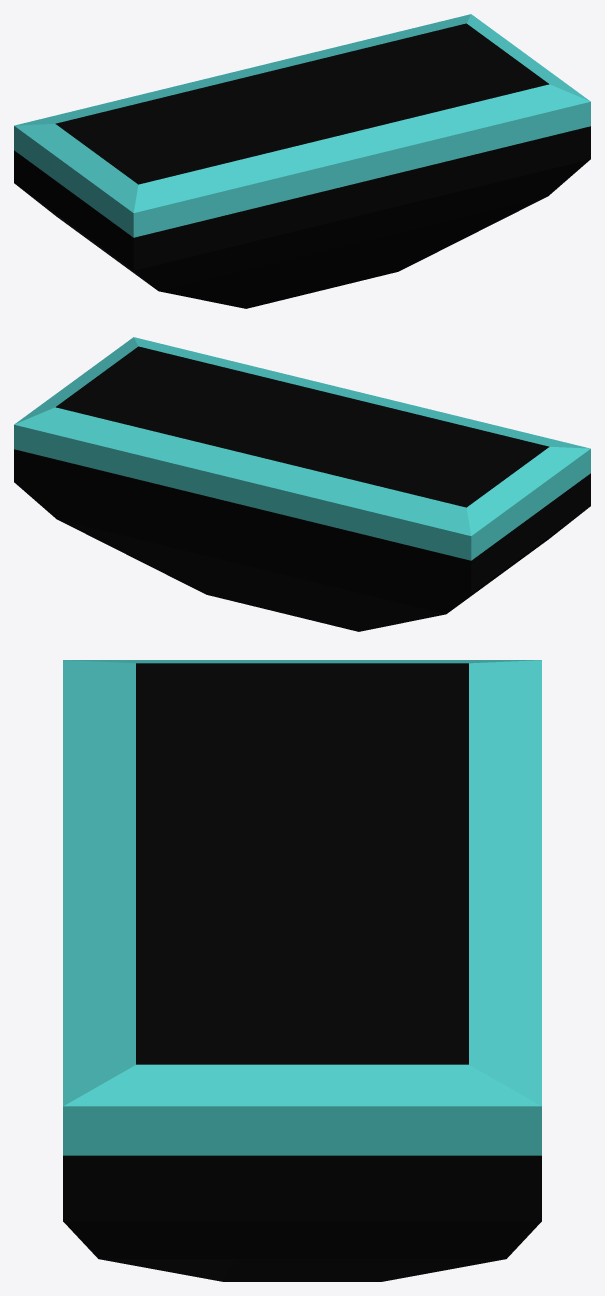
Rendered from rectangleplatform.fbx.
The picture shows the model from 3 angles, top to bottom: view 1: azimuth 30°, elevation 25°; view 2: azimuth 150°, elevation 25°; view 3: azimuth 270°, elevation 25°; orthographic projection. The views are drawn at different scales.
Visible parts, largest first — view 1: rectangle; view 2: rectangle; view 3: rectangle.
Part boxes in pixels (x1,y1,x2,y2): rectangle: (14, 14, 590, 308); rectangle: (14, 337, 590, 631); rectangle: (63, 660, 541, 1281).
Size of the model in its own units: 19.78 by 7.1 by 8.97.
